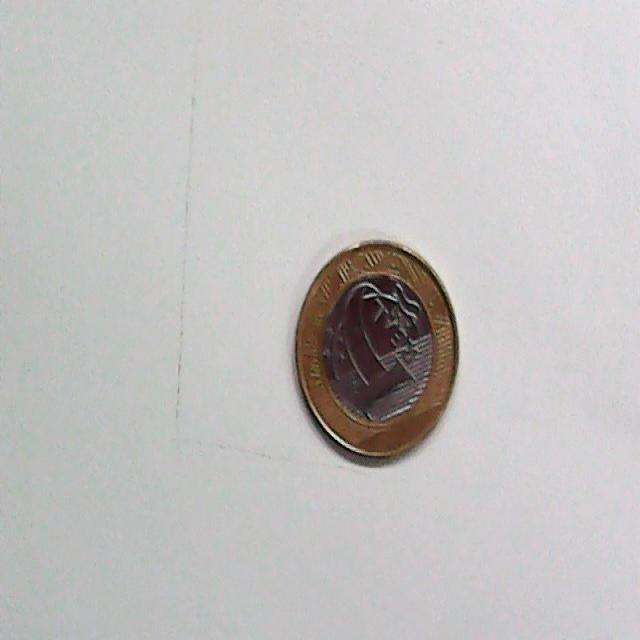1 real: (286, 232, 472, 470)
